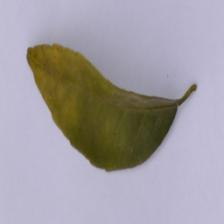greening: (17, 32, 120, 155)
